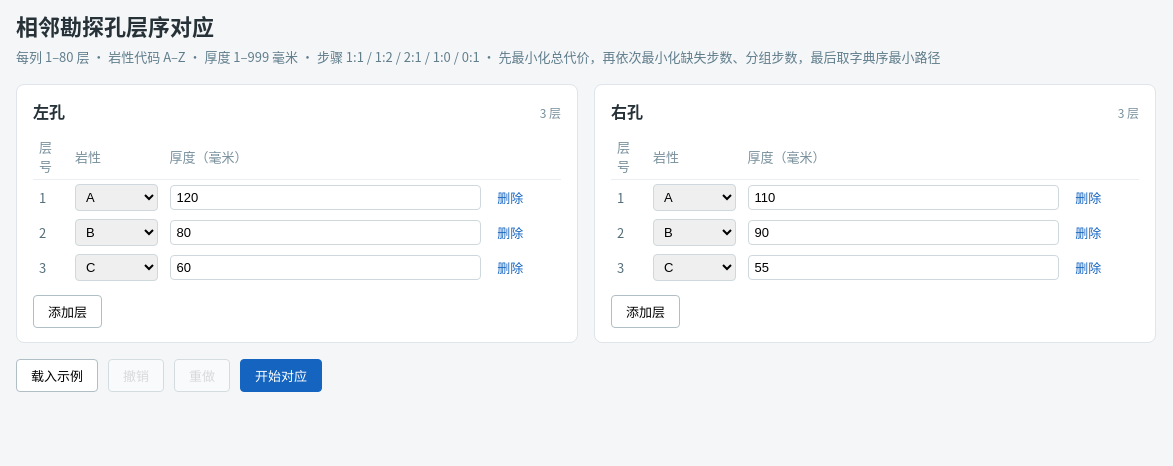
Test case: App › 服务端 422 错误同样展示到层号
The width and height of the screenshot is (1173, 466).
Click the button "开始对应" at (281, 376), box [240,359,322,392]
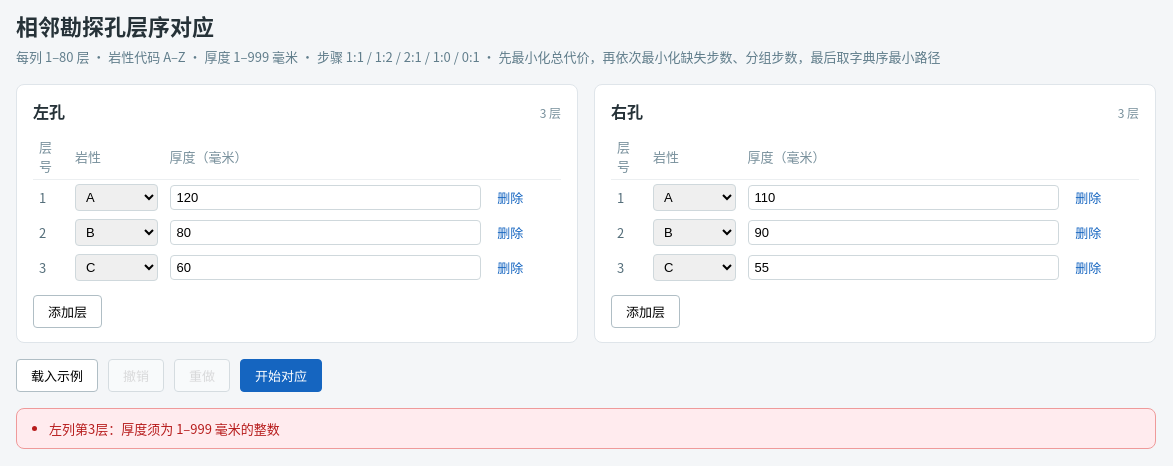
Now the list with test id "errors" shows "左列第3层", box [49,419,280,438]
